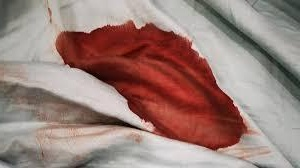blood: (83, 23, 245, 142)
